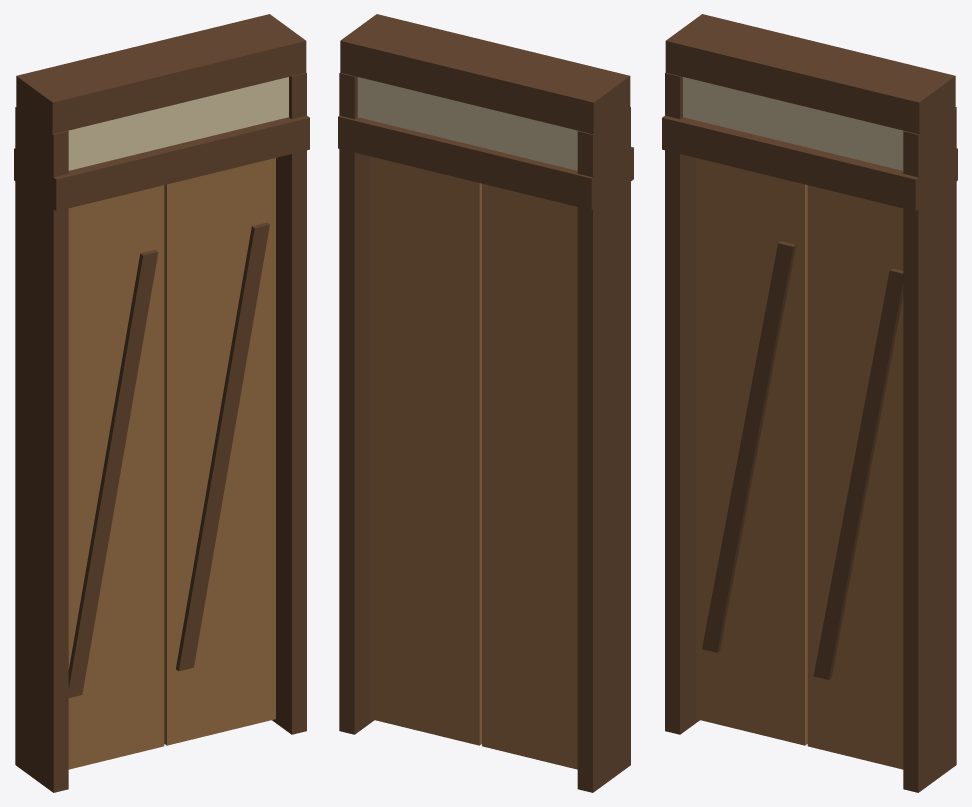
The model's file is WallBarnDoor.fbx.
3 renders of one model, left to right at view 1: azimuth 30°, elevation 25°; view 2: azimuth 150°, elevation 25°; view 3: azimuth 330°, elevation 25°, orthographic.
Visible parts, largest first — view 1: WallBarnDoor; view 2: WallBarnDoor; view 3: WallBarnDoor.
Part boxes in pixels (box(x1,y1,x2,y2)): WallBarnDoor: box(14, 14, 309, 792); WallBarnDoor: box(338, 14, 633, 792); WallBarnDoor: box(662, 14, 957, 792).
Size of the model in its own units: 1 by 2.6 by 0.29.
